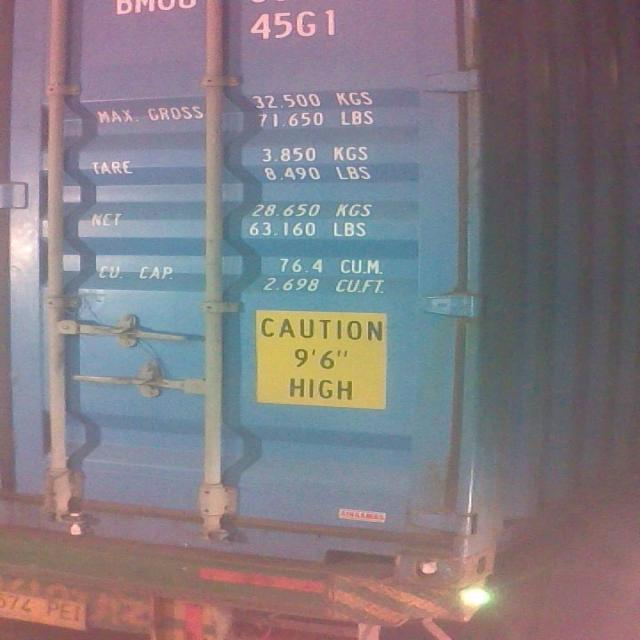seal: (60, 504, 89, 540)
